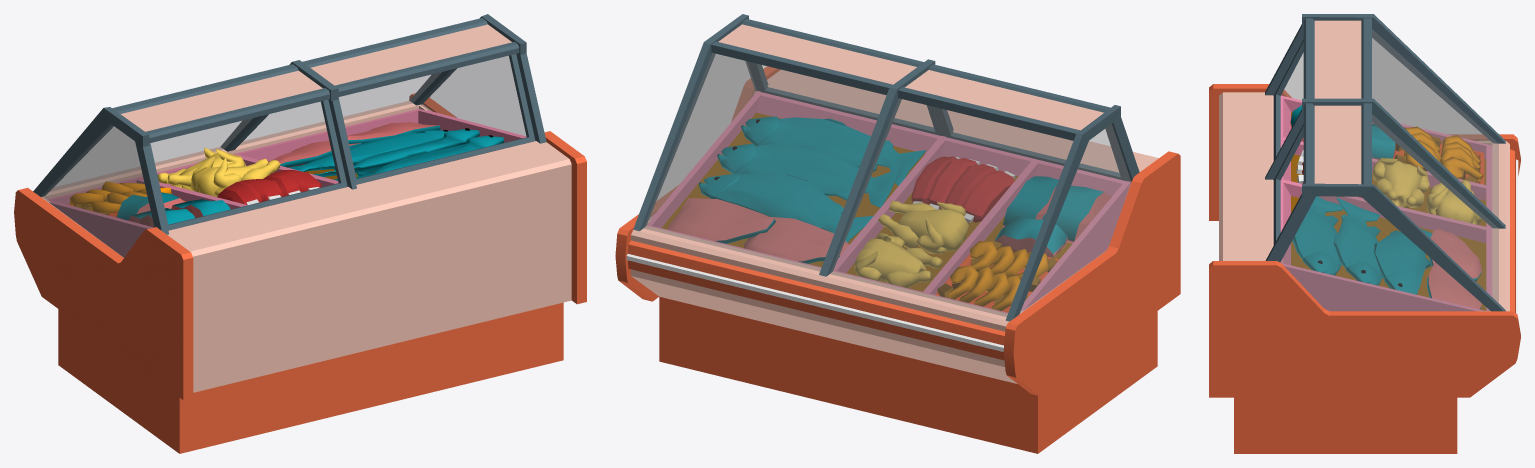
Rendered from Kitchen_Refrigerator_LV3.fbx.
3 views of the same model, side by side, from view 1: azimuth 30°, elevation 25°; view 2: azimuth 150°, elevation 25°; view 3: azimuth 270°, elevation 25° (orthographic). The views are drawn at different scales.
Visible parts, largest first — view 1: Kitchen_Refrigerator_LV3; view 2: Kitchen_Refrigerator_LV3; view 3: Kitchen_Refrigerator_LV3.
Boxes of the visible parts, x1,y1,x2,y2 form: Kitchen_Refrigerator_LV3: (14,14,586,453); Kitchen_Refrigerator_LV3: (615,14,1180,453); Kitchen_Refrigerator_LV3: (1209,14,1520,453).
Bounding box in the file's own units: 373 × 257 × 271.
